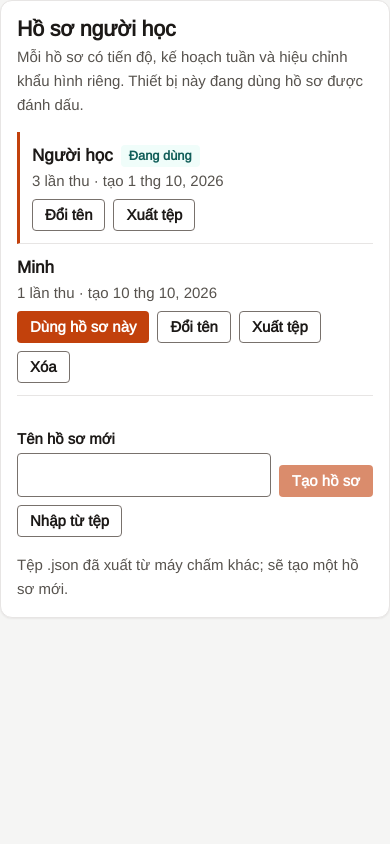
ProfilesCard › renames, confirms before deleting and never offers to delete the default profile
Expected: the text "Minh" is shown, [17, 258, 54, 277]
Expected: the number of buttons "Xóa" is 1, [17, 351, 70, 383]
Click the button "Đổi tên" below "Minh": (194, 327) [158, 311, 231, 343]
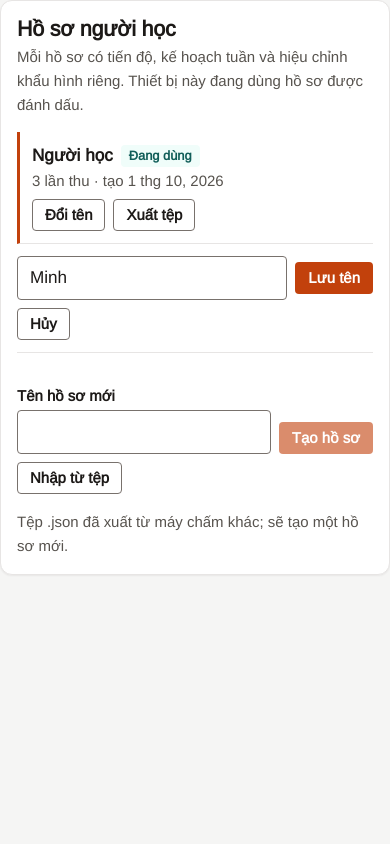
Replace the text in the field named "Tên hồ sơ" with "Minh Anh": (152, 278) [17, 256, 287, 300]
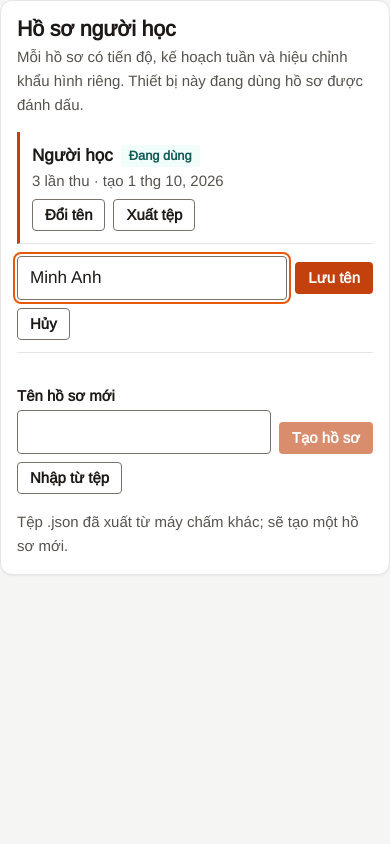
Click the button "Lưu tên": (334, 278) [295, 262, 373, 294]
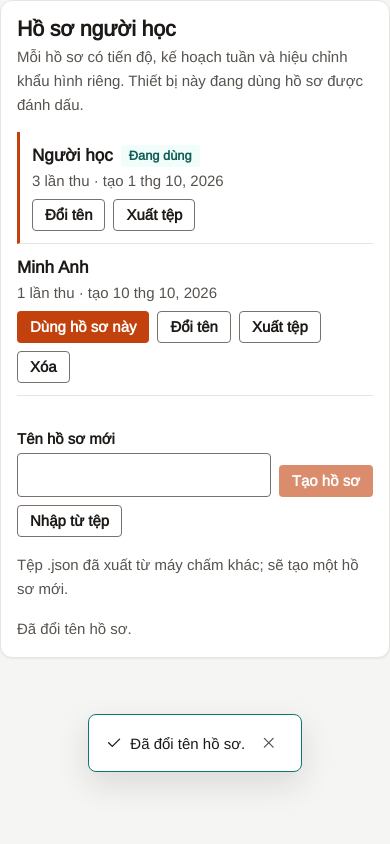
Now the text "Minh Anh" is shown, box [17, 258, 88, 277]
Click the button "Xóa": (43, 367) [17, 351, 70, 383]
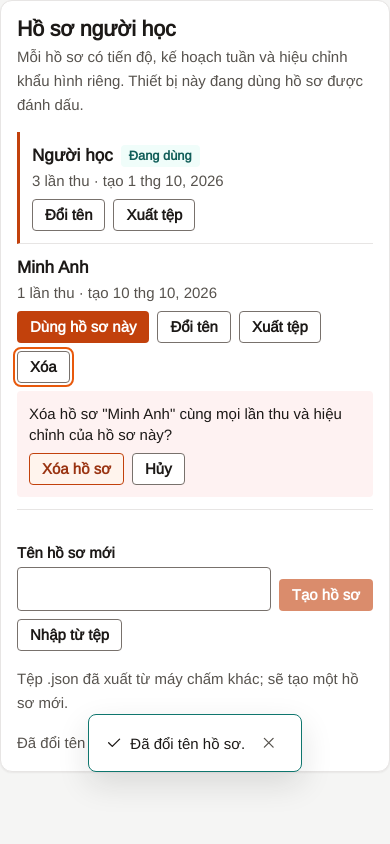
Now the dialog shows "Xóa hồ sơ \"Minh Anh\"", box [29, 405, 342, 443]
Click the button "Xóa hồ sơ": (76, 469) [29, 453, 124, 485]
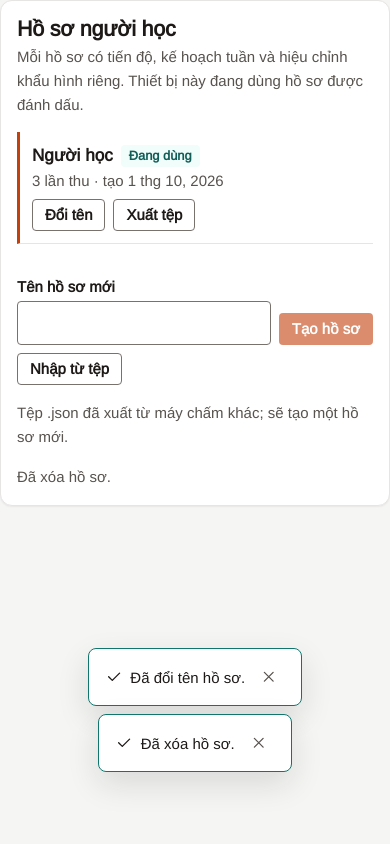
Now the text "Minh Anh" is gone
